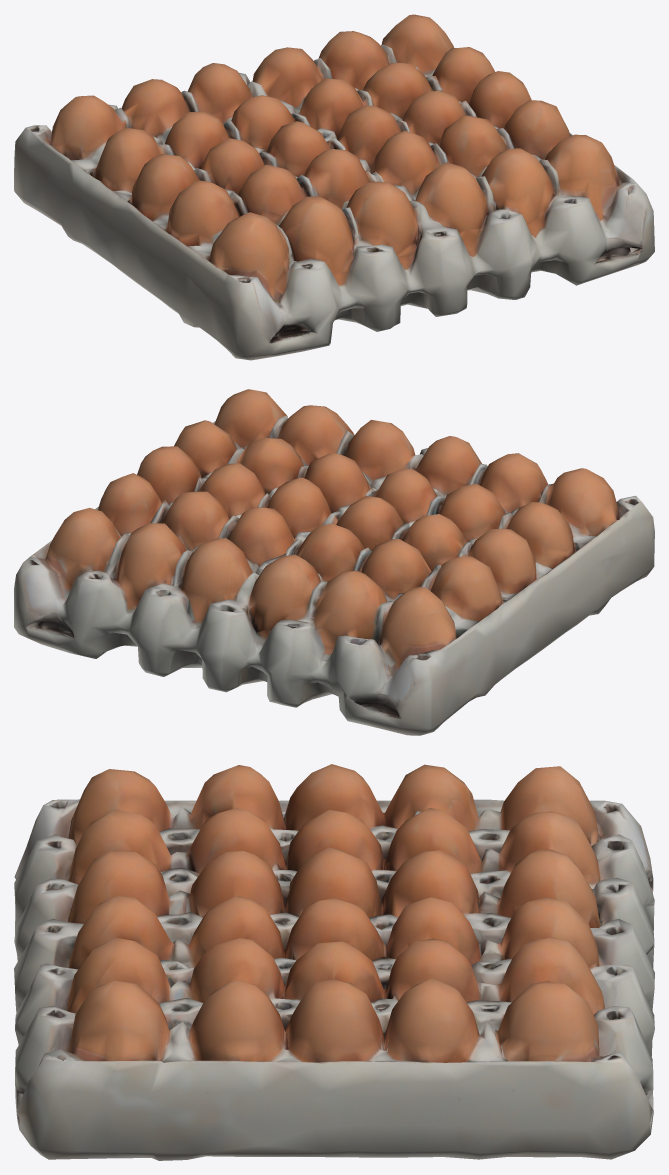
Rendered from Meshy_AI_Low_Poly_Egg_Carton_0422182940_texture.fbx.
3 renders of one model, top to bottom at view 1: azimuth 30°, elevation 25°; view 2: azimuth 150°, elevation 25°; view 3: azimuth 270°, elevation 25°, orthographic. The views are drawn at different scales.
Parts seen in each view (by area): view 1: Mesh_0; view 2: Mesh_0; view 3: Mesh_0.
Part boxes in pixels (x1,y1,x2,y2): Mesh_0: (14, 14, 654, 360); Mesh_0: (14, 389, 654, 735); Mesh_0: (14, 764, 654, 1160).
Size of the model in its own units: 199 by 52.86 by 200.
1 material, 1 textured.
